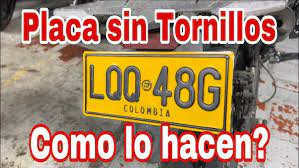placa_moto: (80, 49, 233, 137)
